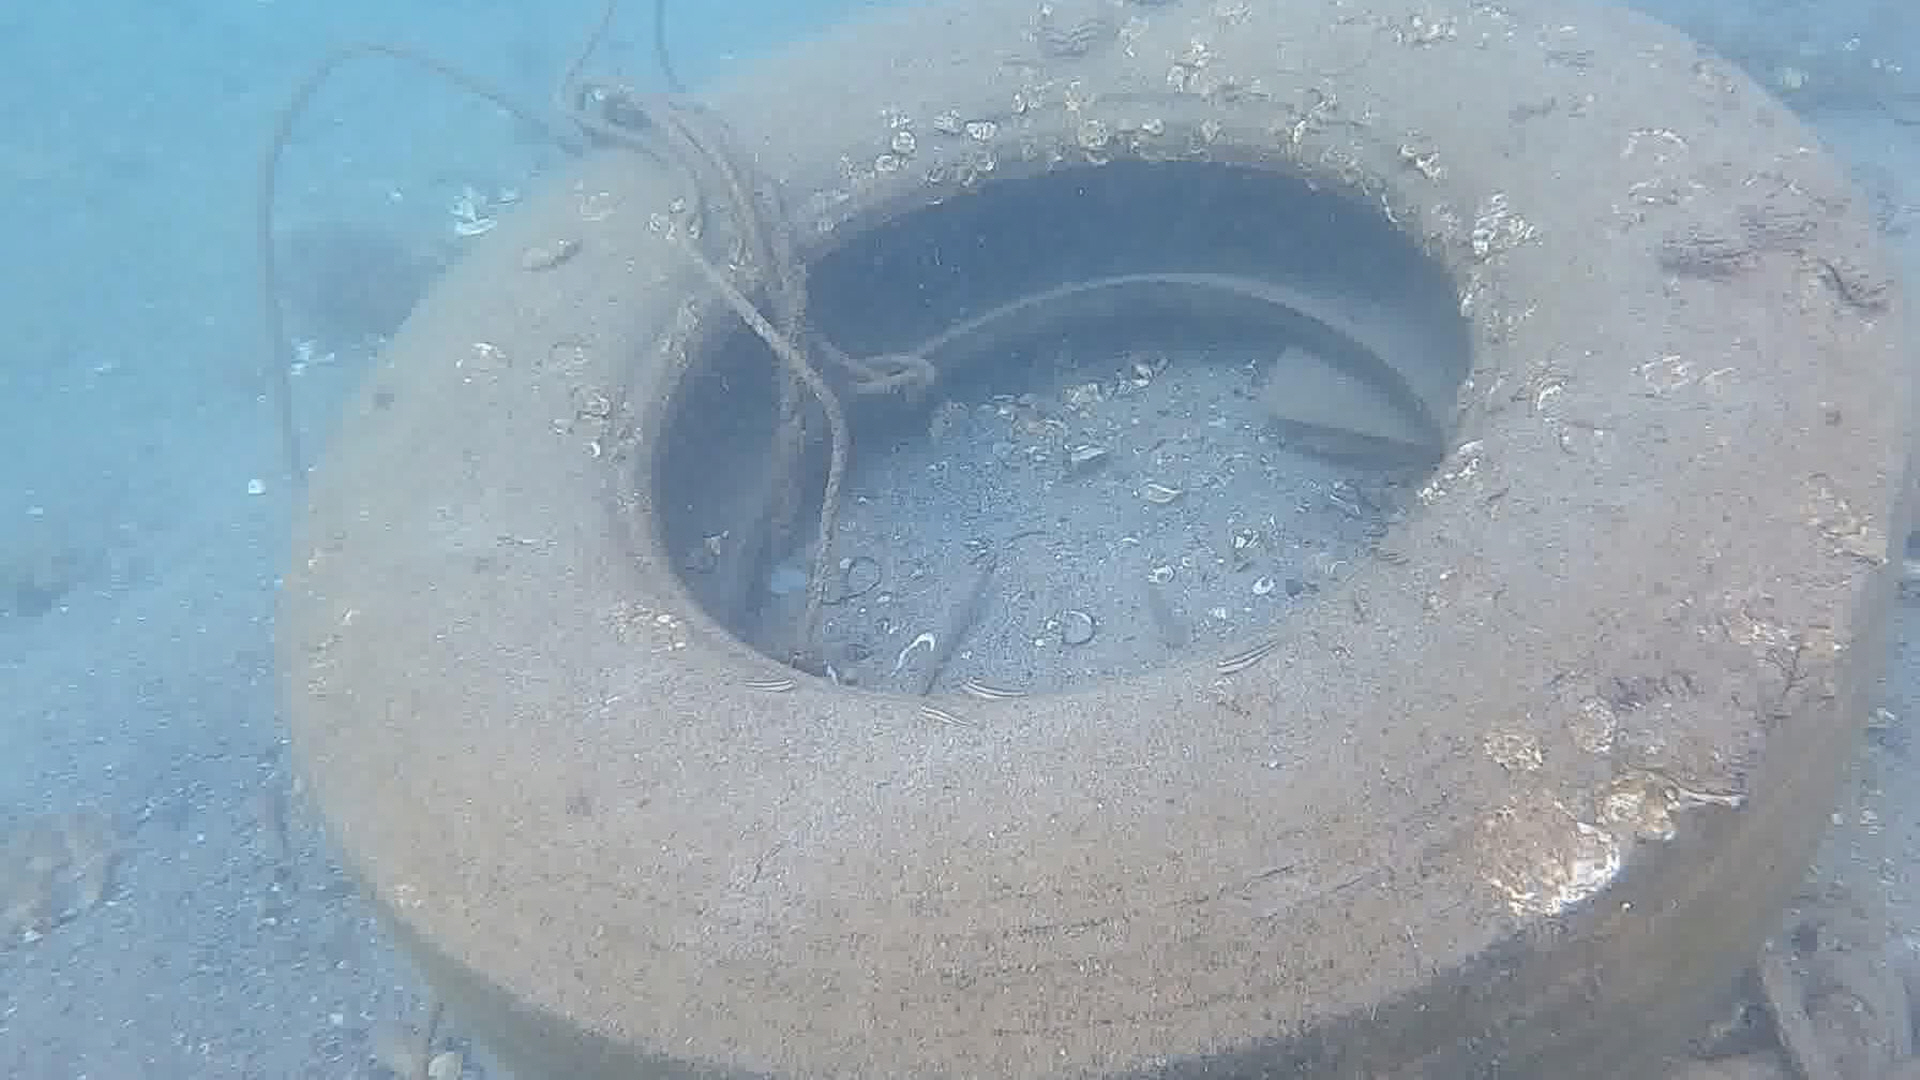bundle of ropes: (233, 0, 914, 684)
tire: (269, 0, 1920, 1069)
